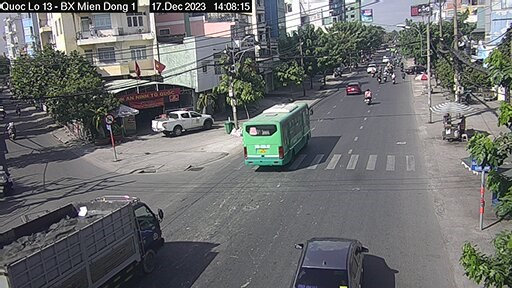bus: (242, 101, 316, 169)
car: (291, 233, 372, 288), (148, 109, 216, 135), (343, 82, 364, 95), (365, 61, 378, 74)
motorbike: (363, 85, 373, 106)
truck: (1, 197, 165, 288)
